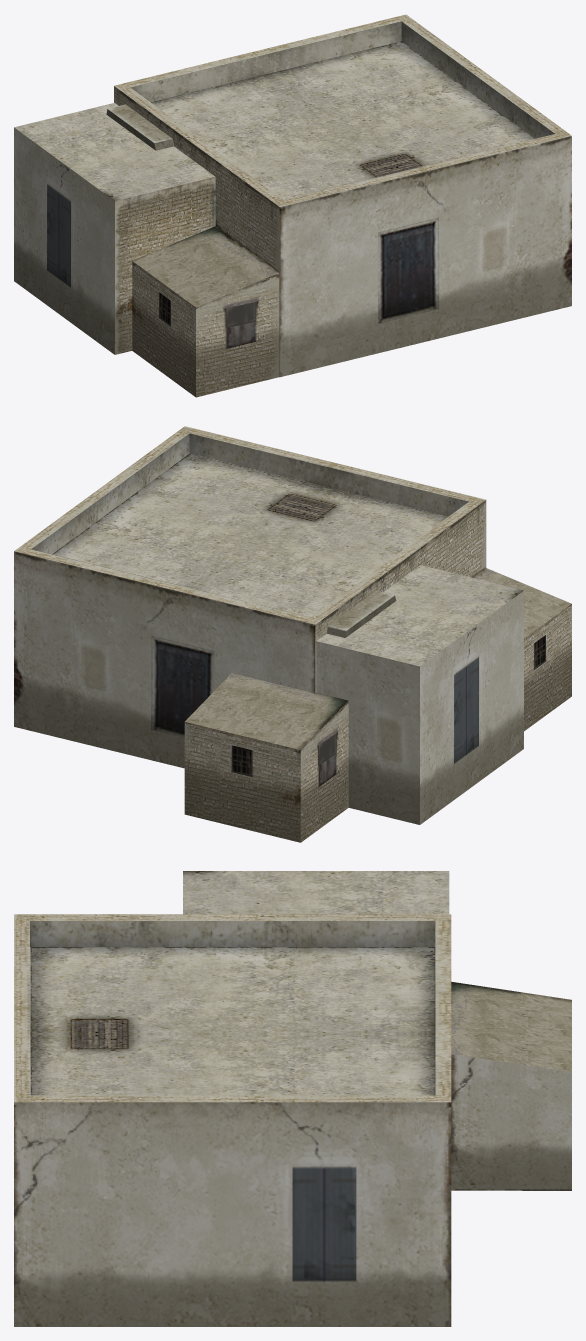
Rendered from buildings_23.FBX.
The picture shows the model from 3 angles, top to bottom: view 1: azimuth 30°, elevation 25°; view 2: azimuth 150°, elevation 25°; view 3: azimuth 270°, elevation 25°; orthographic projection. The views are drawn at different scales.
Visible parts, largest first — view 1: Box001; view 2: Box001; view 3: Box001.
Part boxes in pixels (x1,y1,x2,y2): Box001: (14,14,571,397); Box001: (14,426,571,842); Box001: (14,871,571,1326).
Size of the model in its own units: 1274 by 1188 by 528.
Materials: 1 (1 with a texture image).
